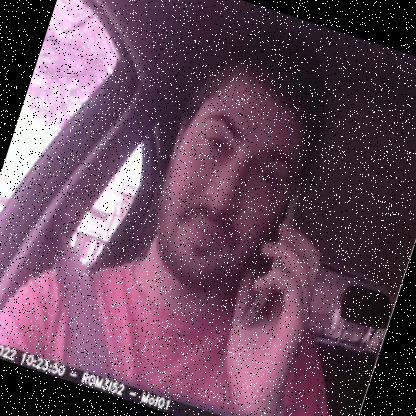phone: (231, 176, 320, 341)
